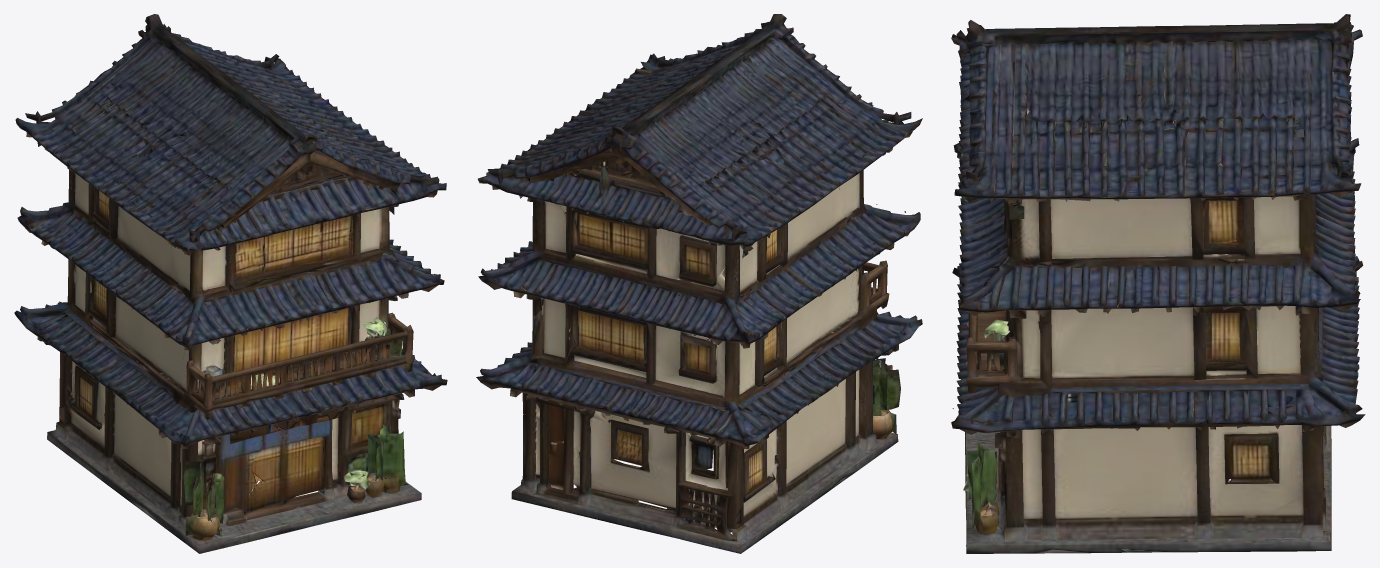
3 renders of one model, left to right at view 1: azimuth 30°, elevation 25°; view 2: azimuth 150°, elevation 25°; view 3: azimuth 270°, elevation 25°, orthographic. The views are drawn at different scales.
Visible parts, largest first — view 1: compact__villa_3__native_mobile; view 2: compact__villa_3__native_mobile; view 3: compact__villa_3__native_mobile.
Part boxes in pixels (left/top/right/bottom): compact__villa_3__native_mobile: left=14, top=14, right=447, bottom=553; compact__villa_3__native_mobile: left=476, top=14, right=922, bottom=553; compact__villa_3__native_mobile: left=951, top=14, right=1365, bottom=553.
Size of the model in its own units: 0.6994 by 1 by 0.7897.
1 material, 1 textured.
